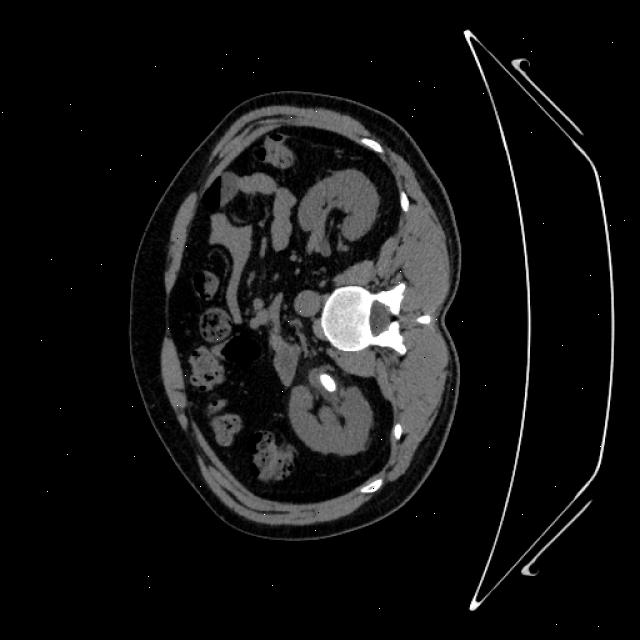kidneystone: (320, 374, 336, 391)
